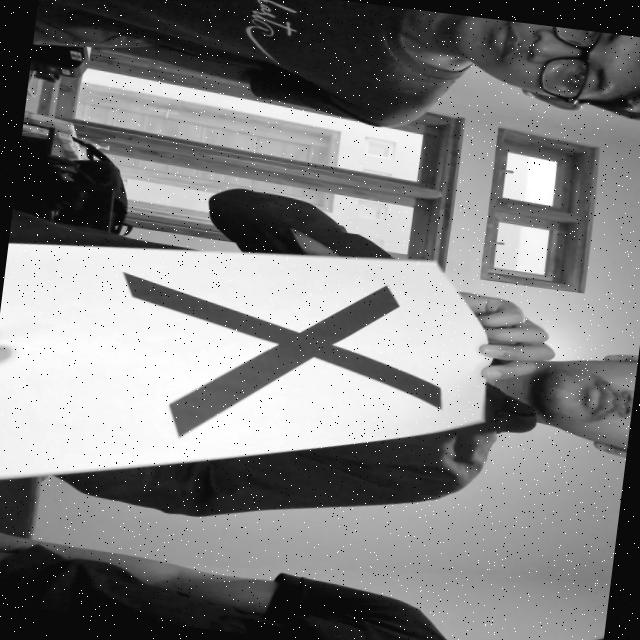x: (84, 229, 468, 492)
